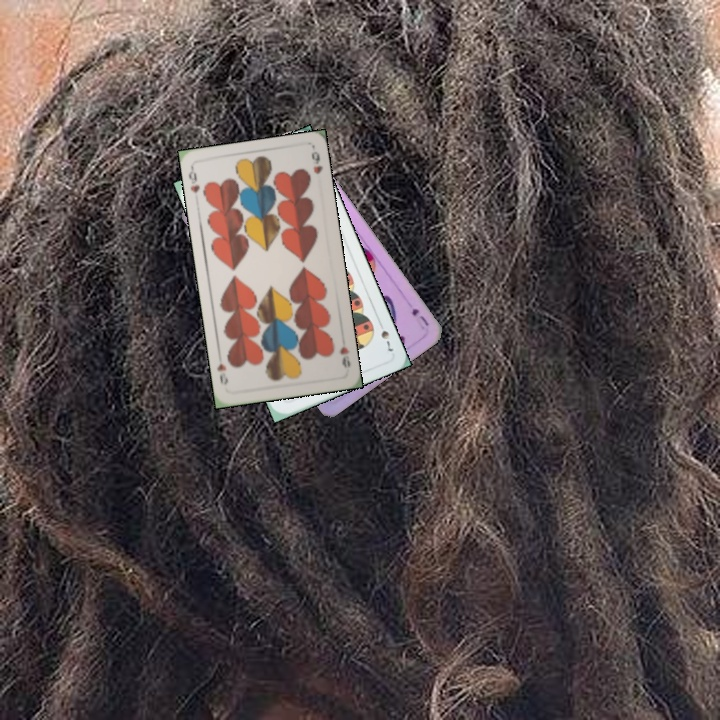H9: (184, 164, 202, 196), (336, 343, 353, 370)
S7: (374, 316, 396, 354)
SU: (408, 304, 431, 332)
